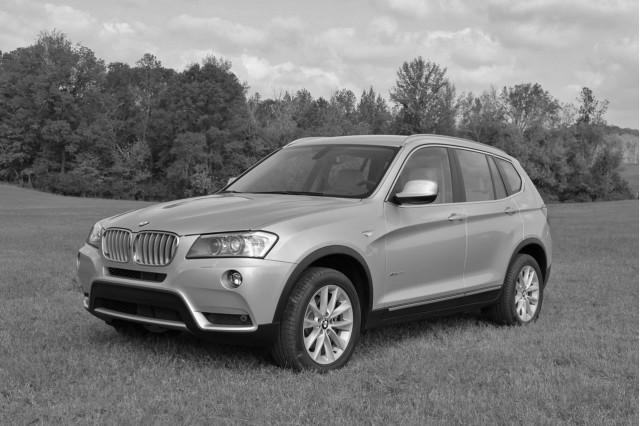car: (78, 134, 555, 375)
